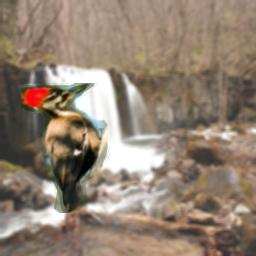Woodpecker: (21, 83, 110, 213)
